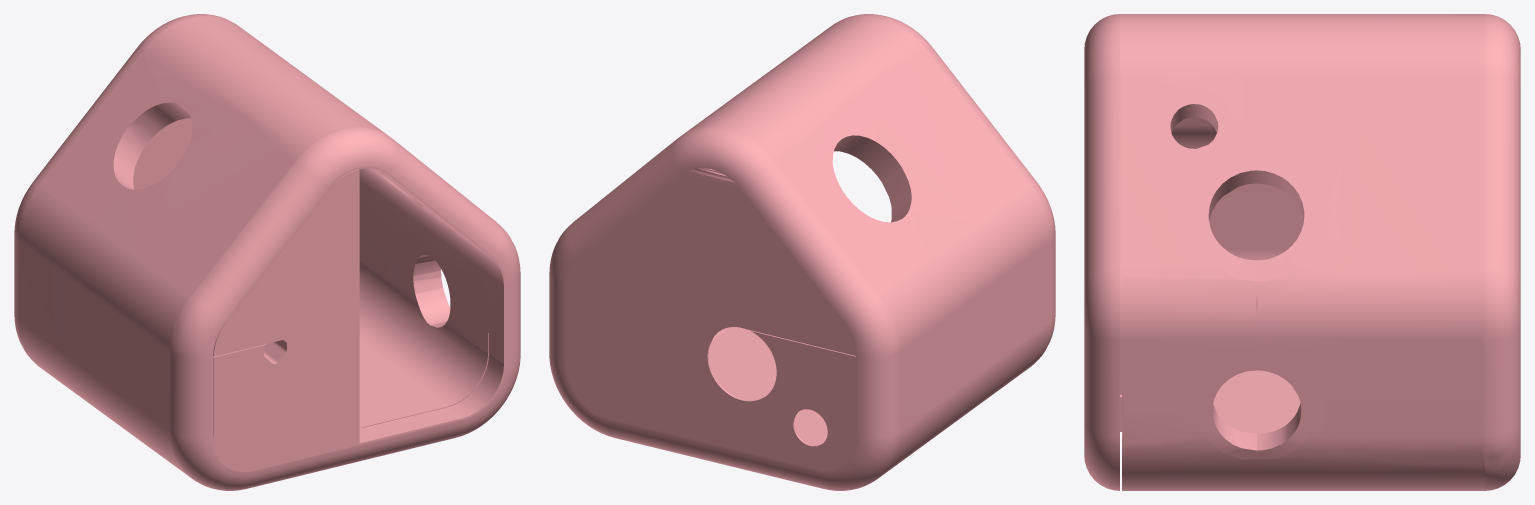
Rendered from HomieHead13.glb.
The picture shows the model from 3 angles, left to right: view 1: azimuth 30°, elevation 25°; view 2: azimuth 150°, elevation 25°; view 3: azimuth 270°, elevation 25°; orthographic projection. The views are drawn at different scales.
Parts seen in each view (by area): view 1: Brep_406, Brep_407; view 2: Brep_406; view 3: Brep_406.
Boxes of the visible parts, <box> form: Brep_406: <box>14,14,520,490</box>; Brep_407: <box>213,169,359,469</box>; Brep_406: <box>549,14,1055,490</box>; Brep_406: <box>1084,14,1520,490</box>.
Bounding box in the file's own units: 0.5144 × 0.4718 × 0.4685.
